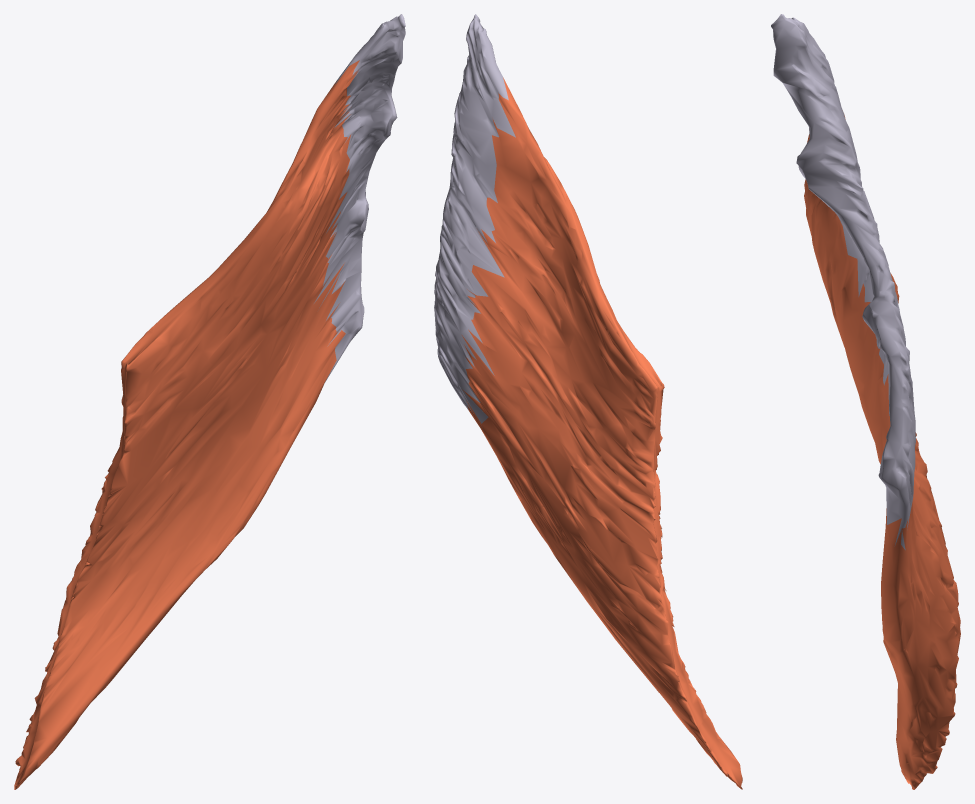
File: Rhomboid_major_muscle.r_Generated_Mesh_From_X3D.241.glb
3 views of the same model, side by side, from view 1: azimuth 30°, elevation 25°; view 2: azimuth 150°, elevation 25°; view 3: azimuth 270°, elevation 25° (orthographic). The views are drawn at different scales.
Parts seen in each view (by area): view 1: Rhomboid_major_muscle.r_Generated_Mesh_From_X3D.241; view 2: Rhomboid_major_muscle.r_Generated_Mesh_From_X3D.241; view 3: Rhomboid_major_muscle.r_Generated_Mesh_From_X3D.241.
Boxes of the visible parts, box(x1,y1,x2,y2) form: Rhomboid_major_muscle.r_Generated_Mesh_From_X3D.241: box(14, 14, 405, 789); Rhomboid_major_muscle.r_Generated_Mesh_From_X3D.241: box(434, 14, 742, 789); Rhomboid_major_muscle.r_Generated_Mesh_From_X3D.241: box(771, 14, 960, 789).
Size of the model in its own units: 0.0886 by 0.1801 by 0.0309.
